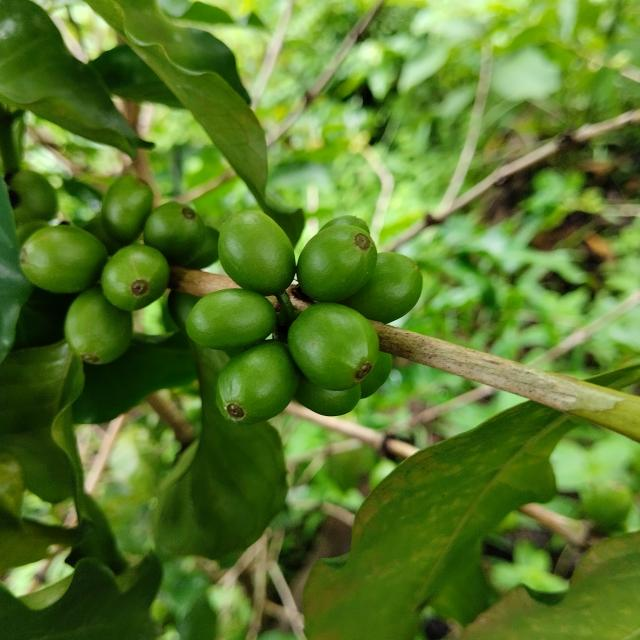green: (288, 302, 379, 391), (216, 340, 299, 424), (218, 210, 296, 296), (297, 224, 378, 302), (19, 225, 107, 293), (341, 252, 423, 324), (185, 289, 276, 351), (63, 287, 132, 365), (100, 244, 169, 311), (143, 201, 205, 266), (101, 174, 153, 245), (294, 374, 361, 417), (184, 226, 219, 269), (360, 352, 392, 399), (320, 215, 370, 234)
